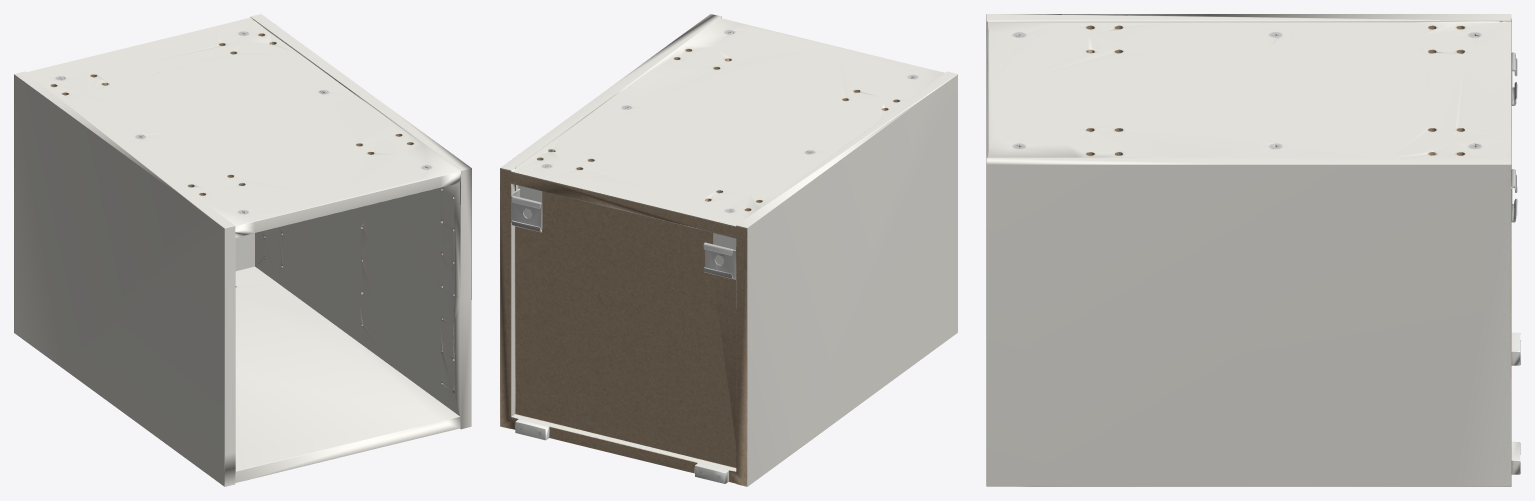
The model's file is metod_nadstawka_60224078.glb.
3 views of the same model, side by side, from view 1: azimuth 30°, elevation 25°; view 2: azimuth 150°, elevation 25°; view 3: azimuth 270°, elevation 25° (orthographic). The views are drawn at different scales.
Parts seen in each view (by area): view 1: metod_nadstawka_60224078; view 2: metod_nadstawka_60224078; view 3: metod_nadstawka_60224078.
Boxes of the visible parts, x1,y1,x2,y2 form: metod_nadstawka_60224078: (14, 14, 471, 486); metod_nadstawka_60224078: (500, 14, 957, 486); metod_nadstawka_60224078: (986, 14, 1520, 486).
Size of the model in its own units: 0.4002 by 0.4002 by 0.6003.
Materials: 1 (1 with a texture image).
